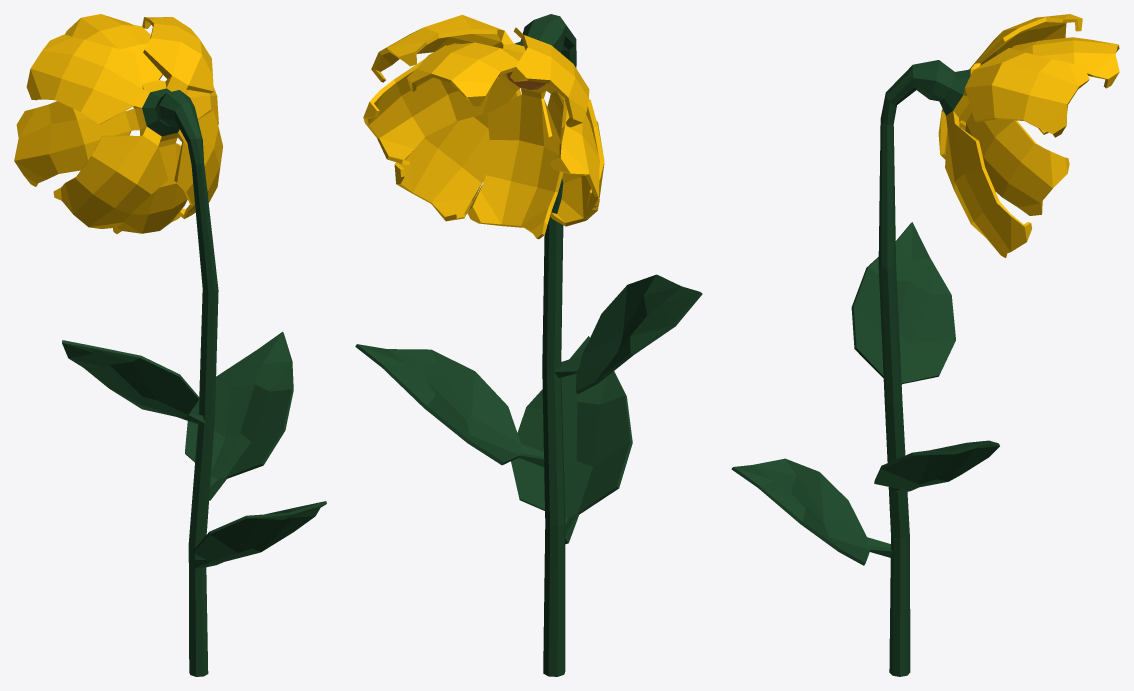
The model's file is Solguard (b) v0-1-0.fbx.
3 views of the same model, side by side, from view 1: azimuth 30°, elevation 25°; view 2: azimuth 150°, elevation 25°; view 3: azimuth 270°, elevation 25° (orthographic). The views are drawn at different scales.
Visible parts, largest first — view 1: Solguard (b)_LOD0; view 2: Solguard (b)_LOD0; view 3: Solguard (b)_LOD0.
Part boxes in pixels (x1,y1,x2,y2): Solguard (b)_LOD0: (14,14,326,676); Solguard (b)_LOD0: (355,14,702,676); Solguard (b)_LOD0: (731,14,1119,676).
Size of what is drawn, in the model's own units: 36.87 by 80.78 by 45.03.
